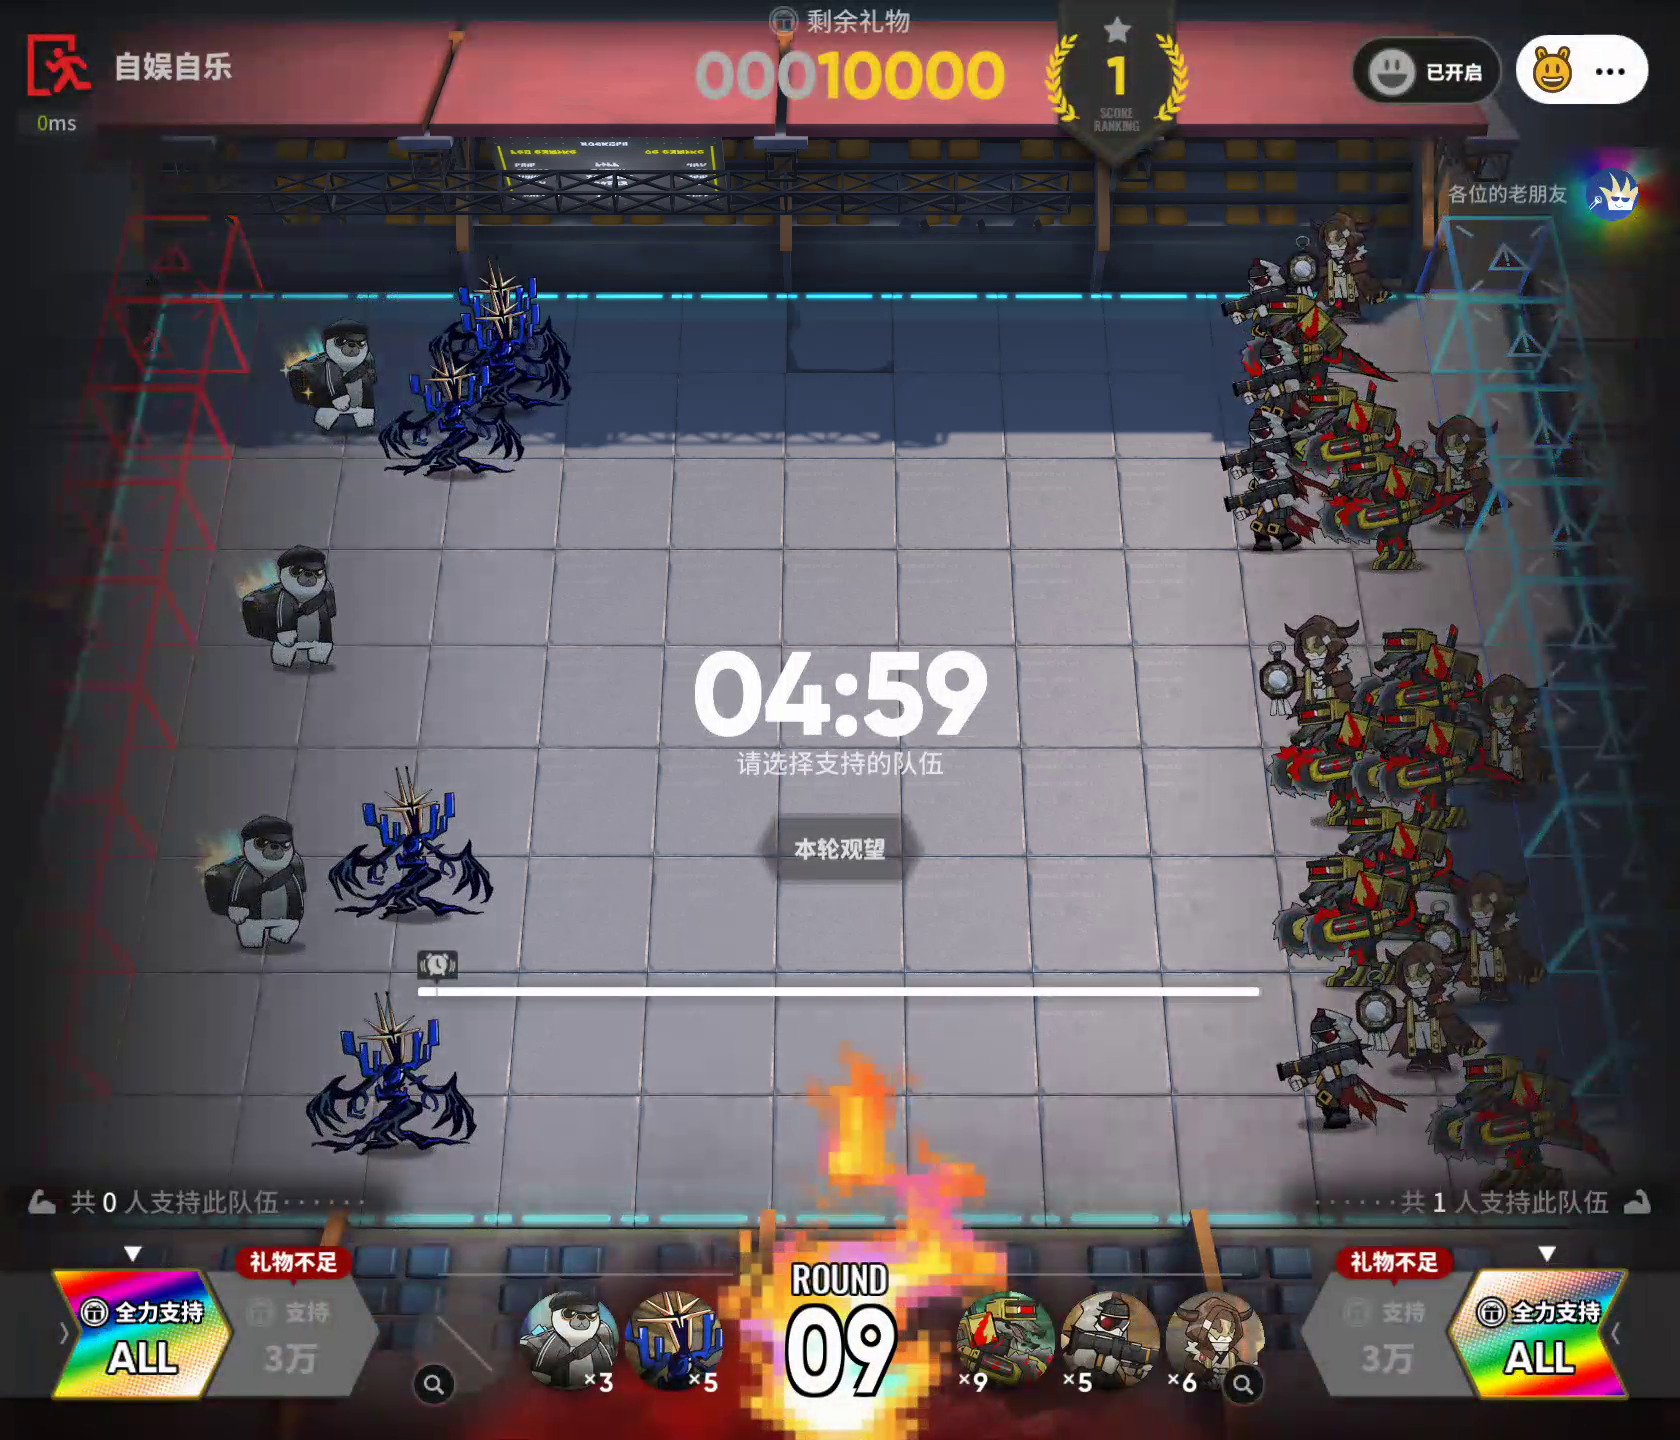机鳄战甲: (1424, 1039, 1627, 1210), (1276, 841, 1451, 989), (1321, 449, 1491, 584), (1349, 701, 1526, 829), (1321, 804, 1489, 929), (1244, 290, 1411, 410), (1261, 694, 1407, 823), (1354, 619, 1499, 741), (1284, 380, 1416, 486), (943, 1283, 1056, 1393)
榴弹佣兵: (1271, 1006, 1409, 1139), (1219, 449, 1324, 561), (1059, 1290, 1163, 1393), (1209, 244, 1313, 339), (1214, 401, 1324, 486), (1226, 337, 1323, 406)
狂躁珊瑚: (303, 979, 486, 1167), (324, 754, 494, 937), (374, 313, 539, 499), (437, 254, 581, 406), (617, 1284, 729, 1399)
镜子机关枪: (1359, 934, 1484, 1074), (1287, 206, 1426, 326), (1254, 611, 1373, 734), (1446, 869, 1544, 1011), (1469, 663, 1563, 796), (1164, 1289, 1274, 1391), (1421, 414, 1516, 531)
高普尼克: (190, 806, 317, 953), (224, 536, 344, 679), (273, 310, 400, 440), (519, 1281, 621, 1399)
